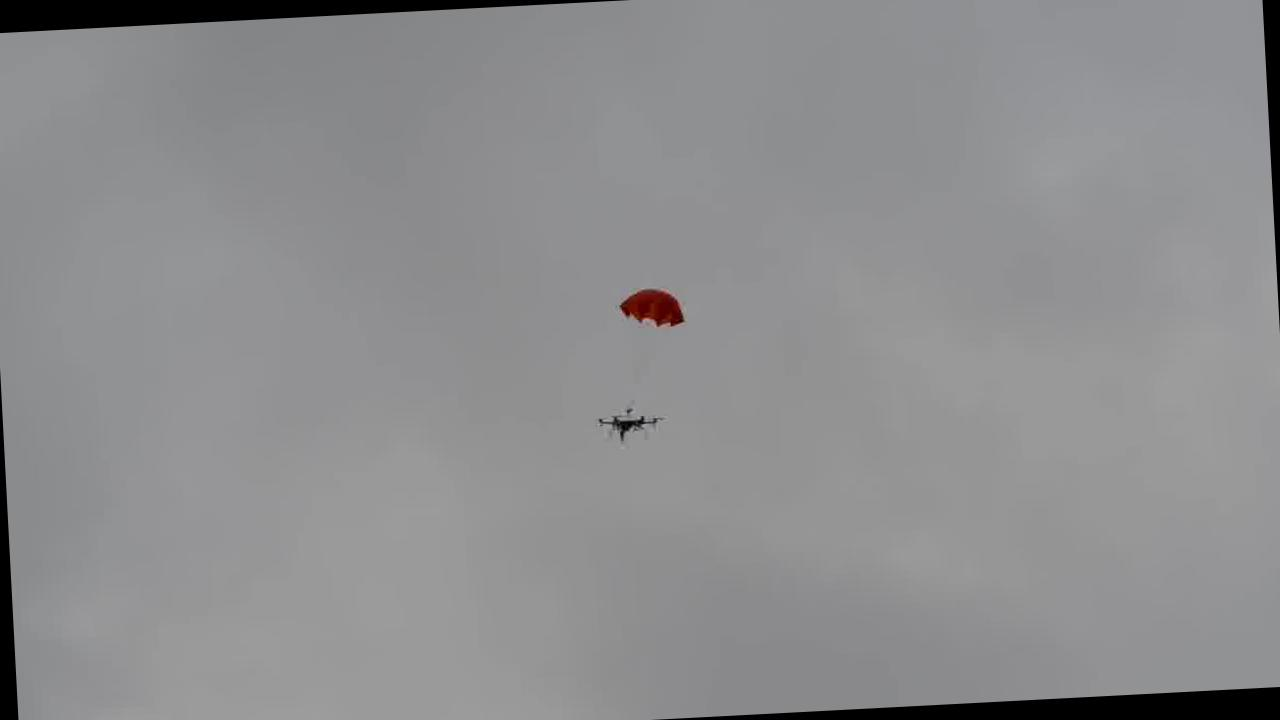drone: (592, 404, 662, 450)
